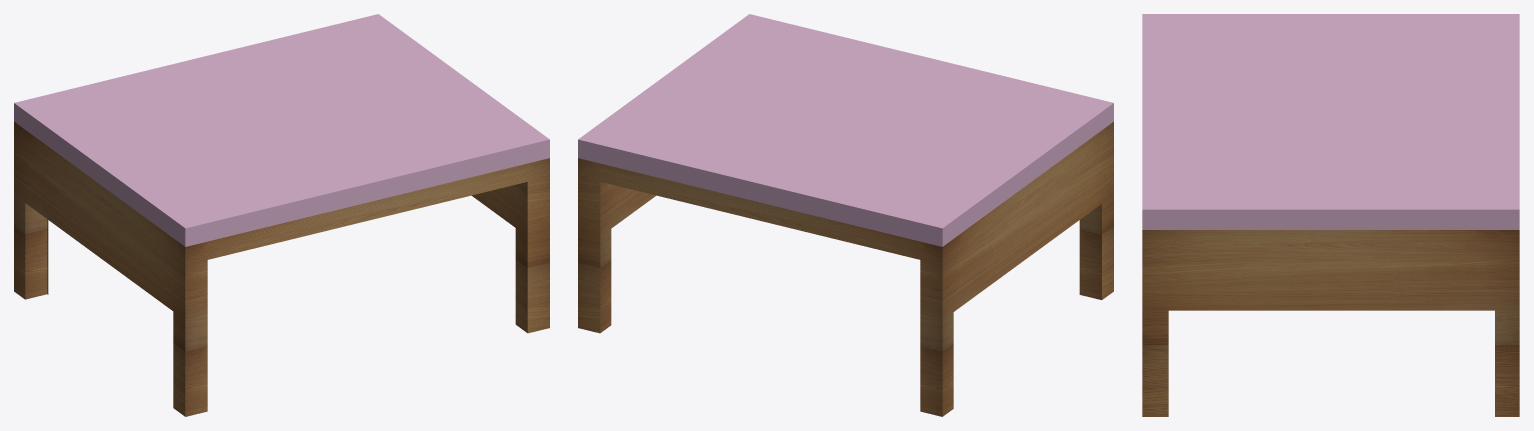
Rendered from Prop_SC_Table1.FBX.
3 views of the same model, side by side, from view 1: azimuth 30°, elevation 25°; view 2: azimuth 150°, elevation 25°; view 3: azimuth 270°, elevation 25° (orthographic). The views are drawn at different scales.
Parts seen in each view (by area): view 1: Prop_SC_Chair006; view 2: Prop_SC_Chair006; view 3: Prop_SC_Chair006.
Boxes of the visible parts, x1=… form: Prop_SC_Chair006: x1=14, y1=14, x2=549, y2=416; Prop_SC_Chair006: x1=578, y1=14, x2=1113, y2=416; Prop_SC_Chair006: x1=1142, y1=14, x2=1519, y2=416.
Bounding box in the file's own units: 40.39 × 19.97 × 32.91.
